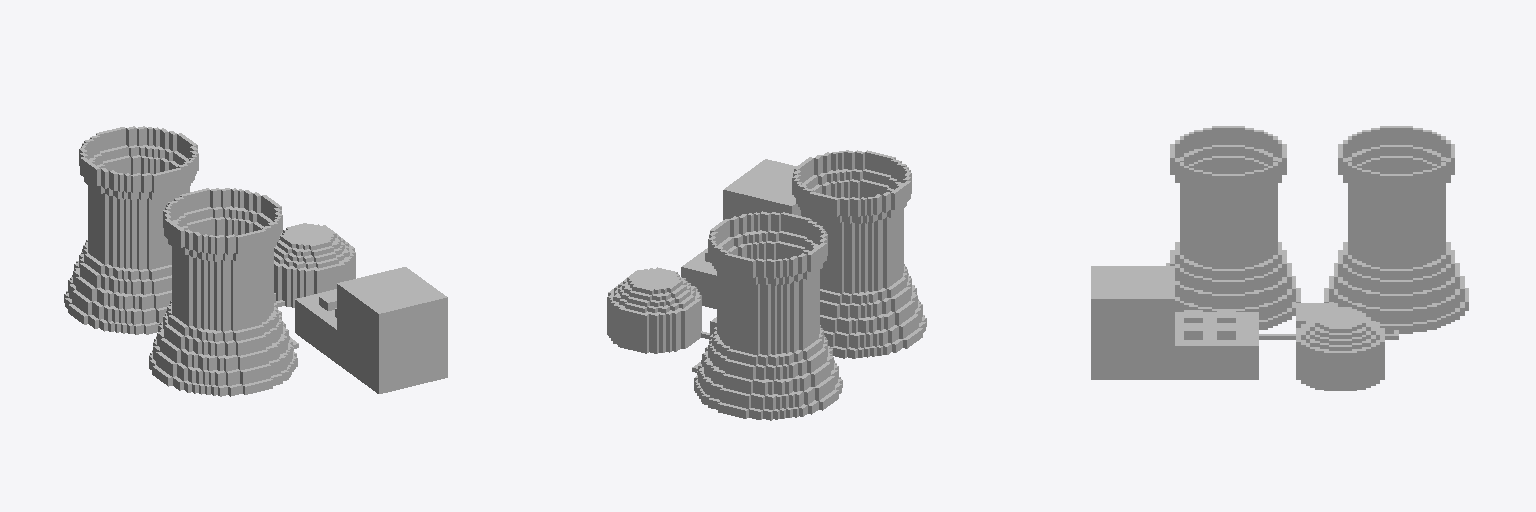
The model's file is atomic.obj.
3 renders of one model, left to right at view 1: azimuth 30°, elevation 25°; view 2: azimuth 150°, elevation 25°; view 3: azimuth 270°, elevation 25°, orthographic.
Size of the model in its own units: 60 by 36 by 81.